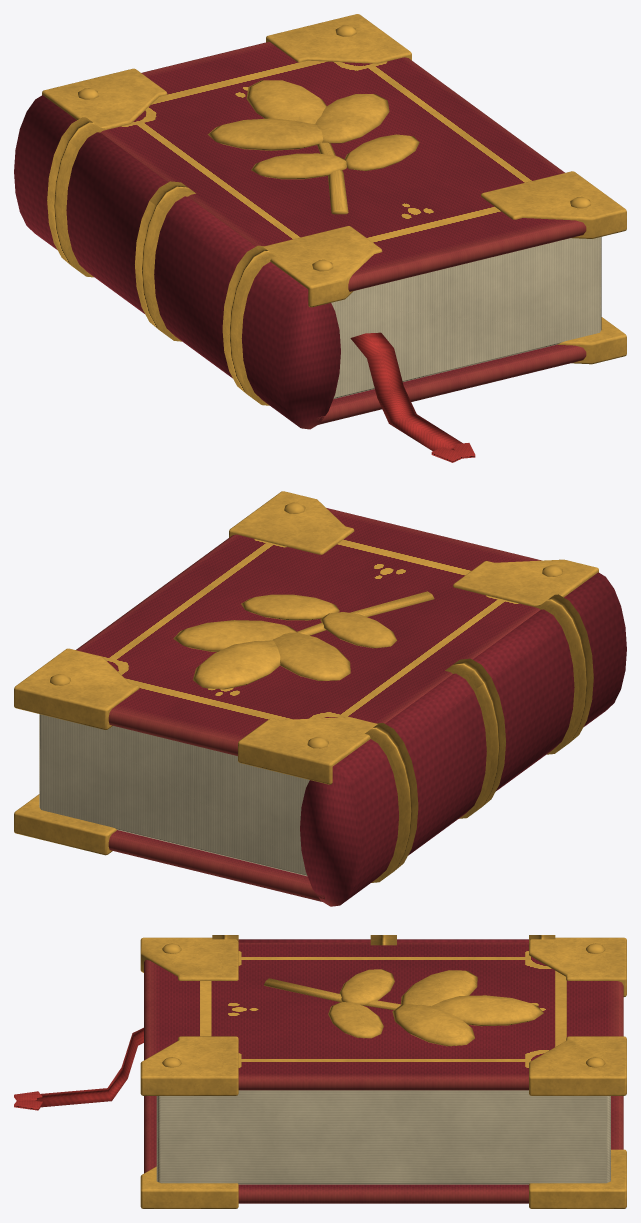
The model's file is book_wine.glb.
The picture shows the model from 3 angles, top to bottom: view 1: azimuth 30°, elevation 25°; view 2: azimuth 150°, elevation 25°; view 3: azimuth 270°, elevation 25°; orthographic projection. The views are drawn at different scales.
Parts seen in each view (by area): view 1: model; view 2: model; view 3: model.
Part boxes in pixels (box(x1,y1,x2,y2)): model: box(14, 14, 626, 462); model: box(14, 491, 626, 906); model: box(14, 935, 626, 1208).
Size of the model in its own units: 0.1718 by 0.0732 by 0.2874.
5 materials, 5 textured.
